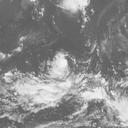cyclone: (47, 47, 94, 97)
